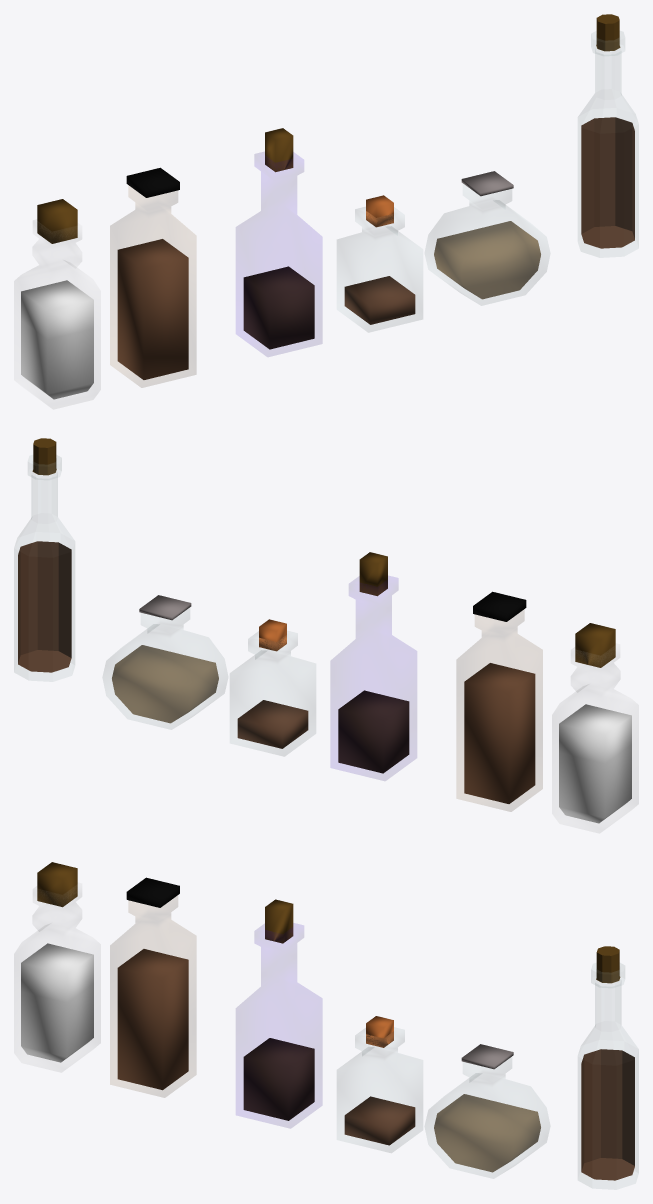
File: Bottles.fbx
The picture shows the model from 3 angles, top to bottom: view 1: azimuth 30°, elevation 25°; view 2: azimuth 150°, elevation 25°; view 3: azimuth 330°, elevation 25°; orthographic projection.
Parts seen in each view (by area): view 1: Cube.002, Cube, Circle, Cube.003, Cube.004, Cube.001; view 2: Cube.002, Cube, Circle, Cube.003, Cube.004, Cube.001; view 3: Cube.002, Cube, Circle, Cube.003, Cube.004, Cube.001.
Boxes of the visible parts, <box> form: Cube.002: <box>110,167,195,387</box>; Cube: <box>236,128,321,356</box>; Circle: <box>578,14,638,257</box>; Cube.003: <box>425,171,549,305</box>; Cube.004: <box>21,199,93,399</box>; Cube.001: <box>337,195,422,331</box>; Cube.002: <box>457,591,542,811</box>; Cube: <box>331,552,416,780</box>; Circle: <box>14,438,74,681</box>; Cube.003: <box>103,595,227,729</box>; Cube.004: <box>559,623,631,823</box>; Cube.001: <box>230,619,315,755</box>; Cube.002: <box>110,877,195,1097</box>; Cube: <box>236,899,321,1127</box>; Circle: <box>578,946,638,1189</box>; Cube.003: <box>425,1044,549,1178</box>; Cube.004: <box>21,862,93,1062</box>; Cube.001: <box>337,1016,422,1152</box>.
Size of the model in its own units: 2200 by 834 by 200.
